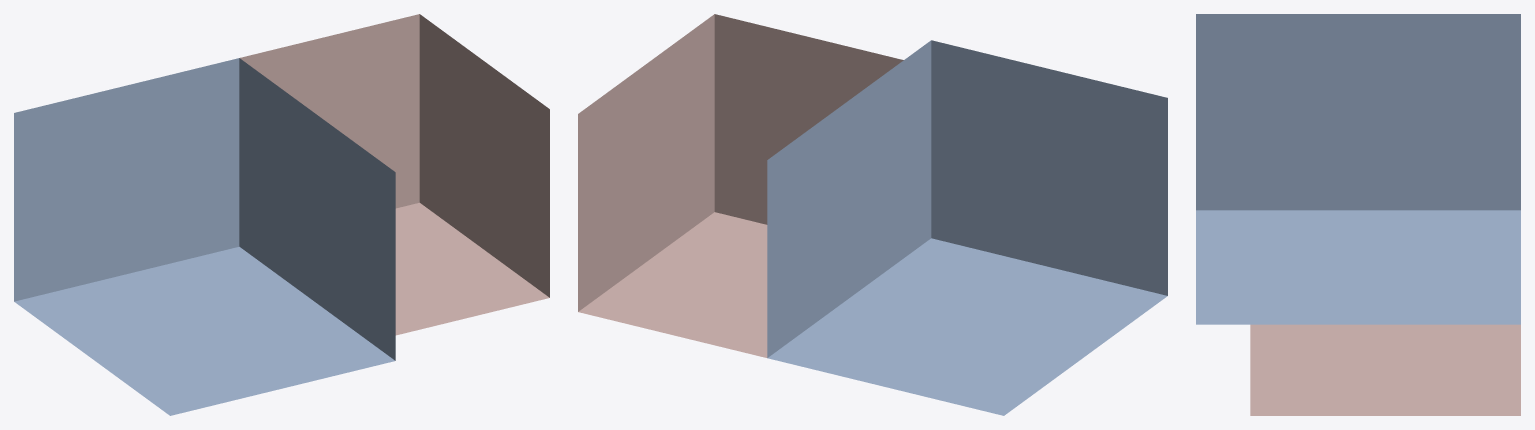
The picture shows the model from 3 angles, left to right: view 1: azimuth 30°, elevation 25°; view 2: azimuth 150°, elevation 25°; view 3: azimuth 270°, elevation 25°; orthographic projection. The views are drawn at different scales.
Parts seen in each view (by area): view 1: world; view 2: world; view 3: world.
Boxes of the visible parts, x1,y1,x2,y2 form: world: (14, 14, 549, 415); world: (578, 14, 1167, 415); world: (1196, 14, 1520, 415).
Size of the model in its own units: 18 by 8 by 12.
